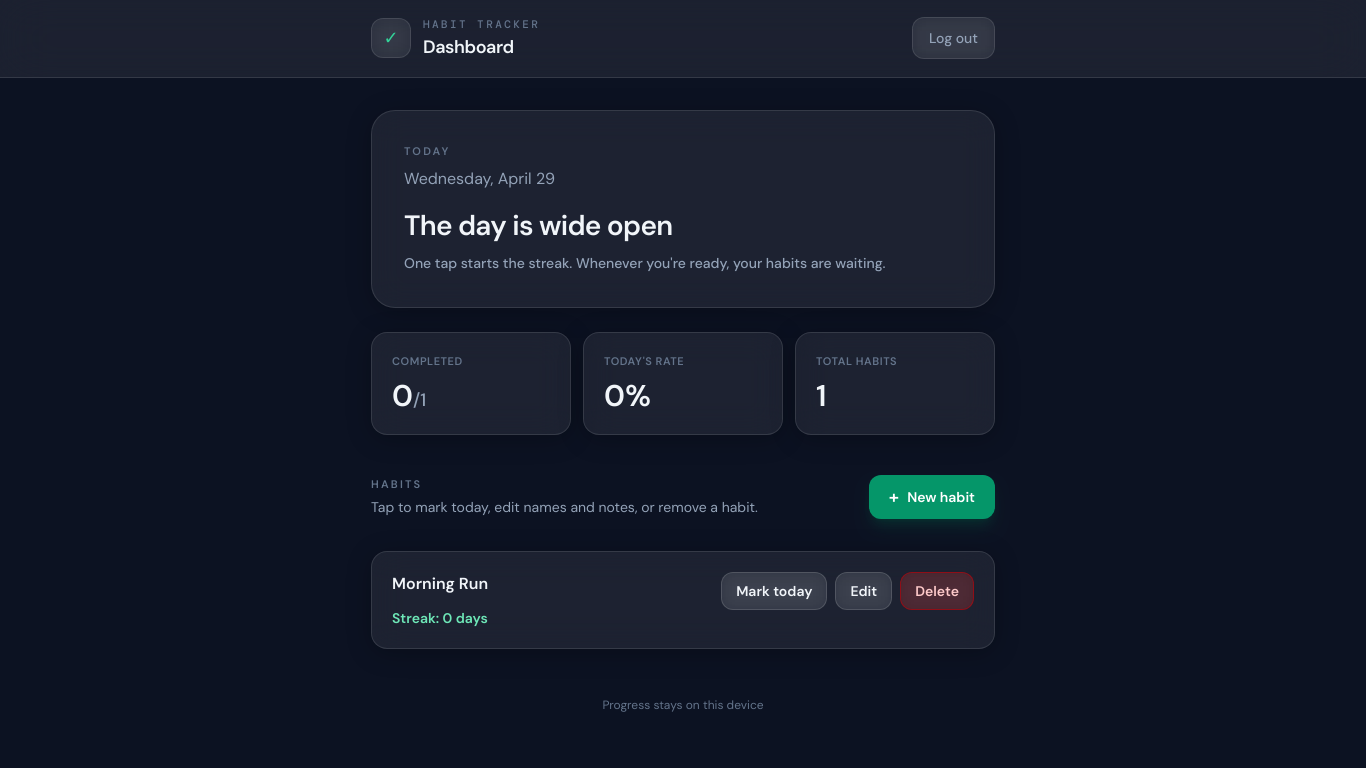
habit form › toggles completion and updates the streak display
Expected: the element with test id "habit-card-morning-run" is shown, [371,551,995,649]
Expected: the text with test id "habit-streak-morning-run" reads "Streak: 0 days", [392,609,488,627]
What coordinates should you click on to do the following:
click the button with test id "habit-complete-morning-run"
I would click on:
 (774, 591)
Its box is [721,572,827,610].
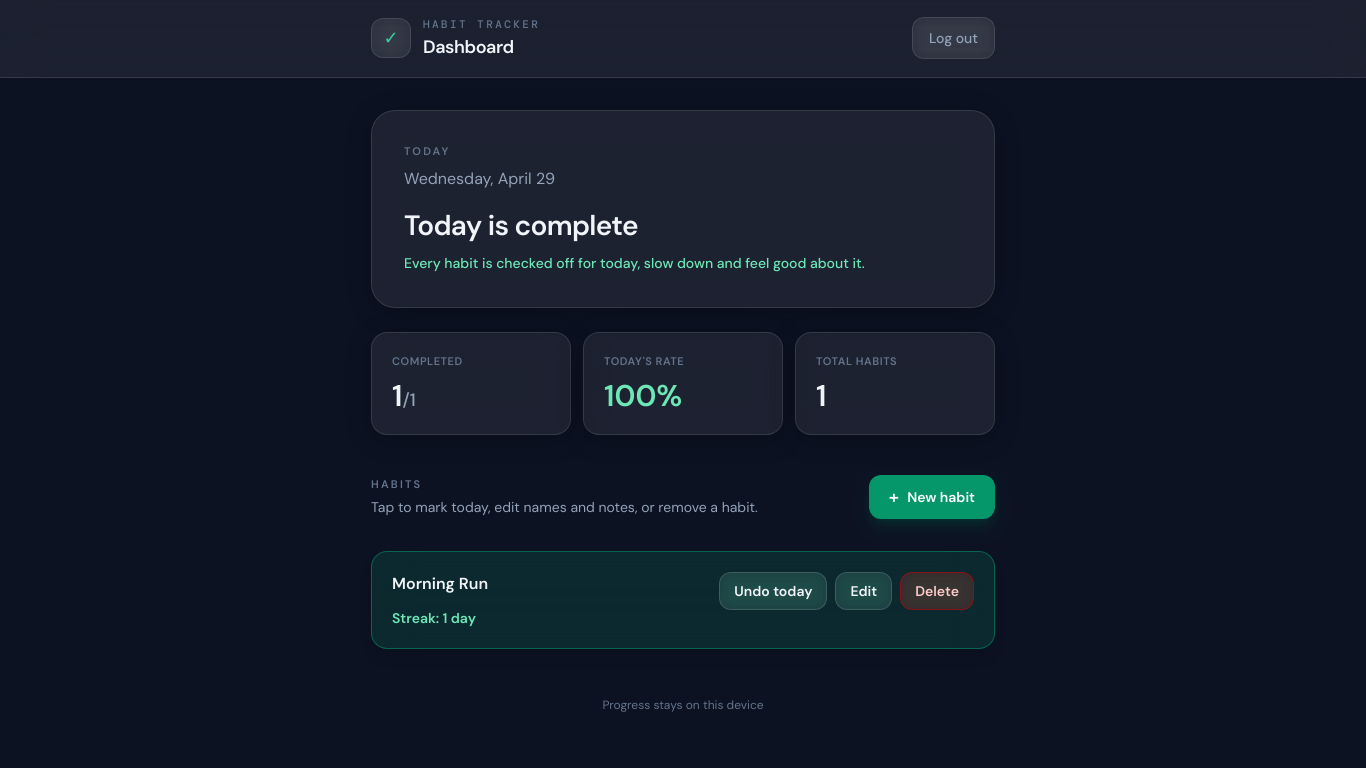
Expected: the text with test id "habit-streak-morning-run" reads "Streak: 1 day", [392,609,476,627]
